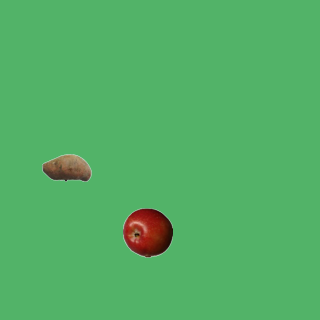Apple Braeburn: (122, 207, 172, 257)
Potato Sweet: (41, 142, 91, 192)
